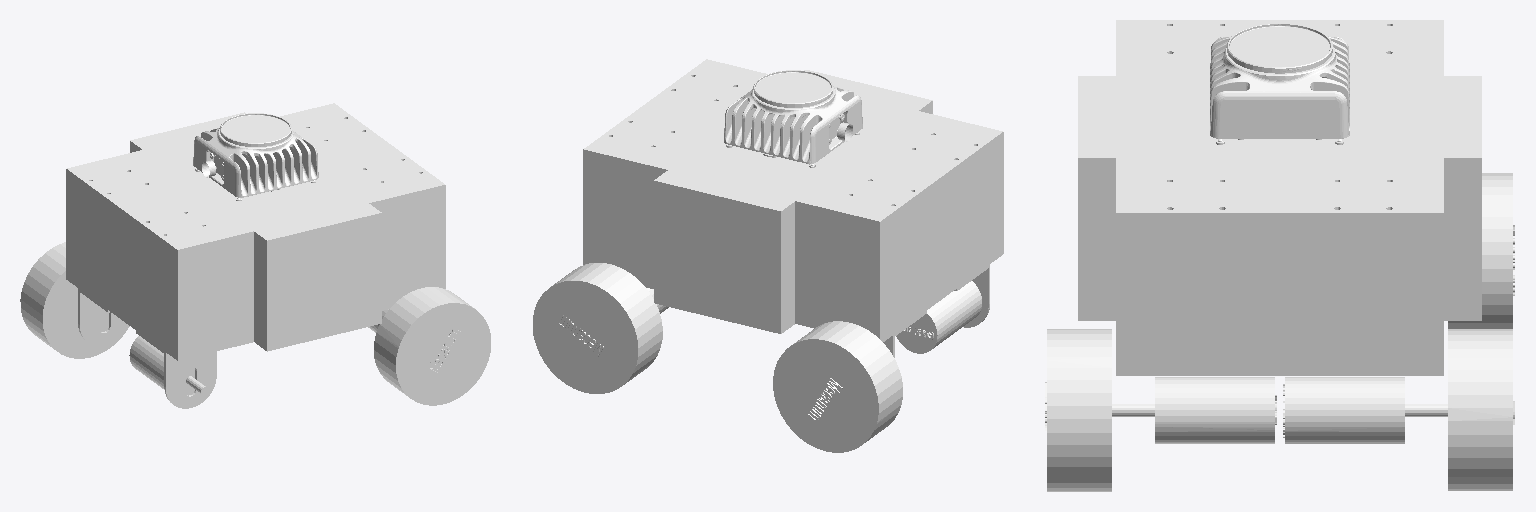
robot.urdf — ground_shark_mid360:
<?xml version="1.0" encoding="utf-8"?>
<!-- This URDF was automatically created by SolidWorks to URDF Exporter! Originally created by Stephen Brawner (brawner@gmail.com) 
     Commit Version: 1.6.0-4-g7f85cfe  Build Version: 1.6.7995.38578
     For more information, please see http://wiki.ros.org/sw_urdf_exporter -->
<robot
  name="ground_shark_mid360">
  <link
    name="base_link">
    <inertial>
      <origin
        xyz="2.58907190131552E-08 2.65764913097433E-08 0.041501286881111"
        rpy="0 0 0" />
      <mass
        value="2.88408104892143" />
      <inertia
        ixx="0.00850390921653607"
        ixy="-1.35978505114286E-10"
        ixz="-3.11887110384155E-09"
        iyy="0.0114346915701379"
        iyz="-3.34239705459834E-09"
        izz="0.0166269839660727" />
    </inertial>
    <visual>
      <origin
        xyz="0 0 0"
        rpy="0 0 0" />
      <geometry>
        <mesh
          filename="package://ground_shark_mid360/meshes/base_link.STL" />
      </geometry>
      <material
        name="">
        <color
          rgba="1 1 1 1" />
      </material>
    </visual>
    <collision>
      <origin
        xyz="0 0 0"
        rpy="0 0 0" />
      <geometry>
        <mesh
          filename="package://ground_shark_mid360/meshes/base_link.STL" />
      </geometry>
    </collision>
  </link>
  <link
    name="lidar_link">
    <inertial>
      <origin
        xyz="-0.000199554712715849 -6.38245507999721E-06 -0.0174673987069298"
        rpy="0 0 0" />
      <mass
        value="0.141887202110515" />
      <inertia
        ixx="4.17976340860606E-05"
        ixy="-5.6242468293159E-09"
        ixz="3.05339161654429E-07"
        iyy="4.5077236165051E-05"
        iyz="-4.50333967050321E-10"
        izz="6.87996344440103E-05" />
    </inertial>
    <visual>
      <origin
        xyz="0 0 0"
        rpy="0 0 0" />
      <geometry>
        <mesh
          filename="package://ground_shark_mid360/meshes/lidar_link.STL" />
      </geometry>
      <material
        name="">
        <color
          rgba="1 1 1 1" />
      </material>
    </visual>
    <collision>
      <origin
        xyz="0 0 0"
        rpy="0 0 0" />
      <geometry>
        <mesh
          filename="package://ground_shark_mid360/meshes/lidar_link.STL" />
      </geometry>
    </collision>
  </link>
  <joint
    name="lidar_joint"
    type="fixed">
    <origin
      xyz="0 0 0.1224991"
      rpy="0 0 0" />
    <parent
      link="base_link" />
    <child
      link="lidar_link" />
    <axis
      xyz="0 0 0" />
  </joint>
  <link
    name="motorbracket_fl_link">
    <inertial>
      <origin
        xyz="-8.32667268468867E-17 0.0101809797663877 -0.00879428398855082"
        rpy="0 0 0" />
      <mass
        value="0.00608322105376719" />
      <inertia
        ixx="2.12921906667825E-06"
        ixy="4.34590982308202E-21"
        ixz="-3.68947801335886E-21"
        iyy="1.91083611877142E-06"
        iyz="6.15365329682498E-07"
        izz="1.8374939001096E-06" />
    </inertial>
    <visual>
      <origin
        xyz="0 0 0"
        rpy="0 0 0" />
      <geometry>
        <mesh
          filename="package://ground_shark_mid360/meshes/motorbracket_fl_link.STL" />
      </geometry>
      <material
        name="">
        <color
          rgba="1 1 1 1" />
      </material>
    </visual>
    <collision>
      <origin
        xyz="0 0 0"
        rpy="0 0 0" />
      <geometry>
        <mesh
          filename="package://ground_shark_mid360/meshes/motorbracket_fl_link.STL" />
      </geometry>
    </collision>
  </link>
  <joint
    name="motorbracket_fl_joint"
    type="fixed">
    <origin
      xyz="0.085 0.037991 -0.002"
      rpy="0 0 0" />
    <parent
      link="base_link" />
    <child
      link="motorbracket_fl_link" />
    <axis
      xyz="0 0 0" />
  </joint>
  <link
    name="motor_fl_link">
    <inertial>
      <origin
        xyz="-9.5265E-08 0.00049405 -3.2037E-07"
        rpy="0 0 0" />
      <mass
        value="0.042092" />
      <inertia
        ixx="1.3775E-05"
        ixy="-1.1406E-10"
        ixz="2.7188E-10"
        iyy="4.9901E-06"
        iyz="-3.8435E-10"
        izz="1.3775E-05" />
    </inertial>
    <visual>
      <origin
        xyz="0 0 0"
        rpy="0 0 0" />
      <geometry>
        <mesh
          filename="package://ground_shark_mid360/meshes/motor_fl_link.STL" />
      </geometry>
      <material
        name="">
        <color
          rgba="1 1 1 1" />
      </material>
    </visual>
    <collision>
      <origin
        xyz="0 0 0"
        rpy="0 0 0" />
      <geometry>
        <mesh
          filename="package://ground_shark_mid360/meshes/motor_fl_link.STL" />
      </geometry>
    </collision>
  </link>
  <joint
    name="motor_fl_joint"
    type="fixed">
    <origin
      xyz="0 -0.0079908 -0.0245"
      rpy="0 0 0" />
    <parent
      link="motorbracket_fl_link" />
    <child
      link="motor_fl_link" />
    <axis
      xyz="0 1 0" />
  </joint>
  <link
    name="wheel_fl_link">
    <inertial>
      <origin
        xyz="7.97822019962813E-07 -0.0149928345886679 3.37951445161799E-08"
        rpy="0 0 0" />
      <mass
        value="0.132597246667058" />
      <inertia
        ixx="5.65512745031579E-05"
        ixy="-1.64157204178127E-09"
        ixz="-2.49441876222743E-09"
        iyy="9.31961918555651E-05"
        iyz="-7.05944311659276E-11"
        izz="5.65547558595817E-05" />
    </inertial>
    <visual>
      <origin
        xyz="0 0 0"
        rpy="0 0 0" />
      <geometry>
        <mesh
          filename="package://ground_shark_mid360/meshes/wheel_fl_link.STL" />
      </geometry>
      <material
        name="">
        <color
          rgba="1 1 1 1" />
      </material>
    </visual>
    <collision>
      <origin
        xyz="0 0 0"
        rpy="0 0 0" />
      <geometry>
        <mesh
          filename="package://ground_shark_mid360/meshes/wheel_fl_link.STL" />
      </geometry>
    </collision>
  </link>
  <joint
    name="wheel_fl_joint"
    type="continuous">
    <origin
      xyz="0 0.0775 0"
      rpy="0 0 0" />
    <parent
      link="motor_fl_link" />
    <child
      link="wheel_fl_link" />
    <axis
      xyz="0 1 0" />
  </joint>
  <link
    name="motorbracket_fr_link">
    <inertial>
      <origin
        xyz="1.38777878078145E-17 -0.0101809797663875 -0.00879428398855099"
        rpy="0 0 0" />
      <mass
        value="0.00608322105376719" />
      <inertia
        ixx="2.12921906667825E-06"
        ixy="-1.10502270722204E-21"
        ixz="1.62613072741423E-21"
        iyy="1.91083611877144E-06"
        iyz="-6.15365329682496E-07"
        izz="1.83749390010959E-06" />
    </inertial>
    <visual>
      <origin
        xyz="0 0 0"
        rpy="0 0 0" />
      <geometry>
        <mesh
          filename="package://ground_shark_mid360/meshes/motorbracket_fr_link.STL" />
      </geometry>
      <material
        name="">
        <color
          rgba="1 1 1 1" />
      </material>
    </visual>
    <collision>
      <origin
        xyz="0 0 0"
        rpy="0 0 0" />
      <geometry>
        <mesh
          filename="package://ground_shark_mid360/meshes/motorbracket_fr_link.STL" />
      </geometry>
    </collision>
  </link>
  <joint
    name="motorbracket_fr_joint"
    type="fixed">
    <origin
      xyz="0.0850000000000002 -0.0379907704315111 -0.00200000000000059"
      rpy="0 0 0" />
    <parent
      link="base_link" />
    <child
      link="motorbracket_fr_link" />
    <axis
      xyz="0 0 0" />
  </joint>
  <link
    name="motor_fr_link">
    <inertial>
      <origin
        xyz="-2.59720585274459E-07 -0.000494051151757506 -2.10380500881291E-07"
        rpy="0 0 0" />
      <mass
        value="0.042092392420595" />
      <inertia
        ixx="1.37744183750105E-05"
        ixy="3.11673267195815E-10"
        ixz="-3.14165930816589E-11"
        iyy="4.99008312109064E-06"
        iyz="2.52185897613015E-10"
        izz="1.3775251827675E-05" />
    </inertial>
    <visual>
      <origin
        xyz="0 0 0"
        rpy="0 0 0" />
      <geometry>
        <mesh
          filename="package://ground_shark_mid360/meshes/motor_fr_link.STL" />
      </geometry>
      <material
        name="">
        <color
          rgba="1 1 1 1" />
      </material>
    </visual>
    <collision>
      <origin
        xyz="0 0 0"
        rpy="0 0 0" />
      <geometry>
        <mesh
          filename="package://ground_shark_mid360/meshes/motor_fr_link.STL" />
      </geometry>
    </collision>
  </link>
  <joint
    name="motor_fr_joint"
    type="fixed">
    <origin
      xyz="0 0.0079908 -0.0245"
      rpy="0 0 0" />
    <parent
      link="motorbracket_fr_link" />
    <child
      link="motor_fr_link" />
    <axis
      xyz="0 -1 0" />
  </joint>
  <link
    name="wheel_fr_link">
    <inertial>
      <origin
        xyz="1.31517531073988E-07 0.014992834588668 7.87632672305527E-07"
        rpy="0 0 0" />
      <mass
        value="0.132597246667058" />
      <inertia
        ixx="5.65540953281575E-05"
        ixy="2.71656748702298E-10"
        ixz="-2.84347824250465E-09"
        iyy="9.31961918555652E-05"
        iyz="1.62047676730197E-09"
        izz="5.65519350345821E-05" />
    </inertial>
    <visual>
      <origin
        xyz="0 0 0"
        rpy="0 0 0" />
      <geometry>
        <mesh
          filename="package://ground_shark_mid360/meshes/wheel_fr_link.STL" />
      </geometry>
      <material
        name="">
        <color
          rgba="1 1 1 1" />
      </material>
    </visual>
    <collision>
      <origin
        xyz="0 0 0"
        rpy="0 0 0" />
      <geometry>
        <mesh
          filename="package://ground_shark_mid360/meshes/wheel_fr_link.STL" />
      </geometry>
    </collision>
  </link>
  <joint
    name="wheel_fr_joint"
    type="continuous">
    <origin
      xyz="0 -0.0775 0"
      rpy="0 0 0" />
    <parent
      link="motor_fr_link" />
    <child
      link="wheel_fr_link" />
    <axis
      xyz="0 -1 0" />
  </joint>
  <link
    name="motorbracket_bl_link">
    <inertial>
      <origin
        xyz="-5.55111512312578E-17 0.0101809797663877 -0.00879428398855093"
        rpy="0 0 0" />
      <mass
        value="0.00608322105376719" />
      <inertia
        ixx="2.12921906667825E-06"
        ixy="3.03573452606615E-21"
        ixz="-3.29832464622636E-21"
        iyy="1.91083611877142E-06"
        iyz="6.153653296825E-07"
        izz="1.8374939001096E-06" />
    </inertial>
    <visual>
      <origin
        xyz="0 0 0"
        rpy="0 0 0" />
      <geometry>
        <mesh
          filename="package://ground_shark_mid360/meshes/motorbracket_bl_link.STL" />
      </geometry>
      <material
        name="">
        <color
          rgba="1 1 1 1" />
      </material>
    </visual>
    <collision>
      <origin
        xyz="0 0 0"
        rpy="0 0 0" />
      <geometry>
        <mesh
          filename="package://ground_shark_mid360/meshes/motorbracket_bl_link.STL" />
      </geometry>
    </collision>
  </link>
  <joint
    name="motorbracket_bl_joint"
    type="fixed">
    <origin
      xyz="-0.0850000000000002 0.0379907704315112 -0.00199999999999938"
      rpy="0 0 0" />
    <parent
      link="base_link" />
    <child
      link="motorbracket_bl_link" />
    <axis
      xyz="0 0 0" />
  </joint>
  <link
    name="motor_bl_link">
    <inertial>
      <origin
        xyz="-9.52647042362642E-08 0.000494051151757761 -3.20373802972784E-07"
        rpy="0 0 0" />
      <mass
        value="0.0420923924205944" />
      <inertia
        ixx="1.37751524776011E-05"
        ixy="-1.14064183836825E-10"
        ixz="2.71882601070877E-10"
        iyy="4.99008312109062E-06"
        iyz="-3.84353111614289E-10"
        izz="1.37745177250838E-05" />
    </inertial>
    <visual>
      <origin
        xyz="0 0 0"
        rpy="0 0 0" />
      <geometry>
        <mesh
          filename="package://ground_shark_mid360/meshes/motor_bl_link.STL" />
      </geometry>
      <material
        name="">
        <color
          rgba="1 1 1 1" />
      </material>
    </visual>
    <collision>
      <origin
        xyz="0 0 0"
        rpy="0 0 0" />
      <geometry>
        <mesh
          filename="package://ground_shark_mid360/meshes/motor_bl_link.STL" />
      </geometry>
    </collision>
  </link>
  <joint
    name="motor_bl_joint"
    type="fixed">
    <origin
      xyz="0 -0.0079908 -0.0245"
      rpy="0 0 0" />
    <parent
      link="motorbracket_bl_link" />
    <child
      link="motor_bl_link" />
    <axis
      xyz="0 1 0" />
  </joint>
  <link
    name="wheel_bl_link">
    <inertial>
      <origin
        xyz="6.68215741628231E-08 -0.0149928345886679 -7.95736743344766E-07"
        rpy="0 0 0" />
      <mass
        value="0.132597246667058" />
      <inertia
        ixx="5.6554543362845E-05"
        ixy="-1.38547605071664E-10"
        ixz="2.62997090832959E-09"
        iyy="9.31961918555653E-05"
        iyz="1.63723758305458E-09"
        izz="5.6551486999895E-05" />
    </inertial>
    <visual>
      <origin
        xyz="0 0 0"
        rpy="0 0 0" />
      <geometry>
        <mesh
          filename="package://ground_shark_mid360/meshes/wheel_bl_link.STL" />
      </geometry>
      <material
        name="">
        <color
          rgba="1 1 1 1" />
      </material>
    </visual>
    <collision>
      <origin
        xyz="0 0 0"
        rpy="0 0 0" />
      <geometry>
        <mesh
          filename="package://ground_shark_mid360/meshes/wheel_bl_link.STL" />
      </geometry>
    </collision>
  </link>
  <joint
    name="wheel_bl_joint"
    type="continuous">
    <origin
      xyz="0 0.0775 0"
      rpy="0 0 0" />
    <parent
      link="motor_bl_link" />
    <child
      link="wheel_bl_link" />
    <axis
      xyz="0 1 0" />
  </joint>
  <link
    name="motorbracket_br_Link">
    <inertial>
      <origin
        xyz="0 -0.0101809797663876 -0.00879428398855096"
        rpy="0 0 0" />
      <mass
        value="0.00608322105376718" />
      <inertia
        ixx="2.12921906667825E-06"
        ixy="-1.349221184075E-21"
        ixz="2.06700336881217E-21"
        iyy="1.91083611877144E-06"
        iyz="-6.15365329682499E-07"
        izz="1.83749390010958E-06" />
    </inertial>
    <visual>
      <origin
        xyz="0 0 0"
        rpy="0 0 0" />
      <geometry>
        <mesh
          filename="package://ground_shark_mid360/meshes/motorbracket_br_Link.STL" />
      </geometry>
      <material
        name="">
        <color
          rgba="1 1 1 1" />
      </material>
    </visual>
    <collision>
      <origin
        xyz="0 0 0"
        rpy="0 0 0" />
      <geometry>
        <mesh
          filename="package://ground_shark_mid360/meshes/motorbracket_br_Link.STL" />
      </geometry>
    </collision>
  </link>
  <joint
    name="motorbracket_br_joint"
    type="fixed">
    <origin
      xyz="-0.0849999999999999 -0.0379907704315117 -0.00200000000000003"
      rpy="0 0 0" />
    <parent
      link="base_link" />
    <child
      link="motorbracket_br_Link" />
    <axis
      xyz="0 0 0" />
  </joint>
  <link
    name="motor_br_link">
    <inertial>
      <origin
        xyz="0.000494051151757456 -2.59720585260581E-07 -2.10380500881291E-07"
        rpy="0 0 0" />
      <mass
        value="0.0420923924205951" />
      <inertia
        ixx="4.99008312109064E-06"
        ixy="-3.11673267223406E-10"
        ixz="-2.52185897611746E-10"
        iyy="1.37744183750105E-05"
        iyz="-3.14165930811279E-11"
        izz="1.37752518276751E-05" />
    </inertial>
    <visual>
      <origin
        xyz="0 0 0"
        rpy="0 0 0" />
      <geometry>
        <mesh
          filename="package://ground_shark_mid360/meshes/motor_br_link.STL" />
      </geometry>
      <material
        name="">
        <color
          rgba="1 1 1 1" />
      </material>
    </visual>
    <collision>
      <origin
        xyz="0 0 0"
        rpy="0 0 0" />
      <geometry>
        <mesh
          filename="package://ground_shark_mid360/meshes/motor_br_link.STL" />
      </geometry>
    </collision>
  </link>
  <joint
    name="motor_br_joint"
    type="fixed">
    <origin
      xyz="0 0.0079908 -0.0245"
      rpy="0 0 -1.5708" />
    <parent
      link="motorbracket_br_Link" />
    <child
      link="motor_br_link" />
    <axis
      xyz="1 0 0" />
  </joint>
  <link
    name="wheel_br_link">
    <inertial>
      <origin
        xyz="-1.0631786313775E-05 0.014992834588668 -1.93041735137151E-05"
        rpy="0 0 0" />
      <mass
        value="0.132597246667058" />
      <inertia
        ixx="5.65514278169526E-05"
        ixy="-9.57536753019201E-10"
        ixz="-2.59467913345226E-09"
        iyy="9.31961918555651E-05"
        iyz="-1.33523994393109E-09"
        izz="5.6554602545787E-05" />
    </inertial>
    <visual>
      <origin
        xyz="0 0 0"
        rpy="0 0 0" />
      <geometry>
        <mesh
          filename="package://ground_shark_mid360/meshes/wheel_br_link.STL" />
      </geometry>
      <material
        name="">
        <color
          rgba="1 1 1 1" />
      </material>
    </visual>
    <collision>
      <origin
        xyz="0 0 0"
        rpy="0 0 0" />
      <geometry>
        <mesh
          filename="package://ground_shark_mid360/meshes/wheel_br_link.STL" />
      </geometry>
    </collision>
  </link>
  <joint
    name="wheel_br_joint"
    type="continuous">
    <origin
      xyz="0.0775 1.0167E-05 1.8655E-05"
      rpy="0 0 1.5708" />
    <parent
      link="motor_br_link" />
    <child
      link="wheel_br_link" />
    <axis
      xyz="0 -1 0" />
  </joint>
  <link
    name="imu_link">
    <inertial>
      <origin
        xyz="0 0 0"
        rpy="0 0 0" />
      <mass
        value="0" />
      <inertia
        ixx="0"
        ixy="0"
        ixz="0"
        iyy="0"
        iyz="0"
        izz="0" />
    </inertial>
    <visual>
      <origin
        xyz="0 0 0"
        rpy="0 0 0" />
      <geometry>
        <mesh
          filename="package://ground_shark_mid360/meshes/imu_link.STL" />
      </geometry>
      <material
        name="">
        <color
          rgba="1 1 1 1" />
      </material>
    </visual>
    <collision>
      <origin
        xyz="0 0 0"
        rpy="0 0 0" />
      <geometry>
        <mesh
          filename="package://ground_shark_mid360/meshes/imu_link.STL" />
      </geometry>
    </collision>
  </link>
  <joint
    name="imu_joint"
    type="fixed">
    <origin
      xyz="0 0 0.1224991"
      rpy="0 0 0" />
    <parent
      link="base_link" />
    <child
      link="imu_link" />
    <axis
      xyz="0 0 0" />
  </joint>
</robot>

--- Facts derived from the render (not from the file) ---
Views: 3 orthographic renders of the robot side by side, from view 1: azimuth 30°, elevation 25°; view 2: azimuth 150°, elevation 25°; view 3: azimuth 270°, elevation 25°.
Model ground_shark_mid360 with 15 links and 14 joints (4 continuous, 10 fixed), rooted at base_link, posed every joint at zero.
Links seen in each view (by area): view 1: base_link, wheel_fr_link, imu_link, wheel_bl_link, motorbracket_br_Link, motor_br_link, motorbracket_bl_link; view 2: base_link, wheel_bl_link, wheel_fl_link, imu_link, motor_br_link, motorbracket_br_Link; view 3: base_link, imu_link, wheel_fr_link, wheel_fl_link, motor_fl_link, motor_fr_link, wheel_bl_link.
Boxes of the visible links, left/top/right/bottom form: base_link: left=66, top=103, right=445, bottom=360; wheel_fr_link: left=374, top=287, right=490, bottom=405; imu_link: left=193, top=113, right=318, bottom=200; wheel_bl_link: left=20, top=242, right=129, bottom=358; motorbracket_br_Link: left=136, top=331, right=216, bottom=408; motor_br_link: left=129, top=336, right=207, bottom=395; motorbracket_bl_link: left=78, top=288, right=127, bottom=345; base_link: left=583, top=59, right=1003, bottom=341; wheel_bl_link: left=773, top=321, right=902, bottom=452; wheel_fl_link: left=533, top=263, right=662, bottom=393; imu_link: left=724, top=70, right=862, bottom=167; motor_br_link: left=896, top=281, right=981, bottom=353; motorbracket_br_Link: left=954, top=265, right=989, bottom=327; base_link: left=1078, top=20, right=1481, bottom=375; imu_link: left=1210, top=23, right=1349, bottom=144; wheel_fr_link: left=1045, top=329, right=1111, bottom=491; wheel_fl_link: left=1448, top=329, right=1514, bottom=490; motor_fl_link: left=1283, top=377, right=1447, bottom=443; motor_fr_link: left=1112, top=377, right=1276, bottom=443; wheel_bl_link: left=1448, top=173, right=1514, bottom=328.
Size in the robot's own frame: 0.2449 by 0.217 by 0.1833 metres.
10 mesh visuals loaded from 15 distinct referenced files (10 binary STL); not drawn: 5 (reference not matched to a file when rendering).
